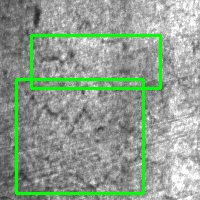crazing: (16, 79, 143, 193), (31, 35, 160, 88)
